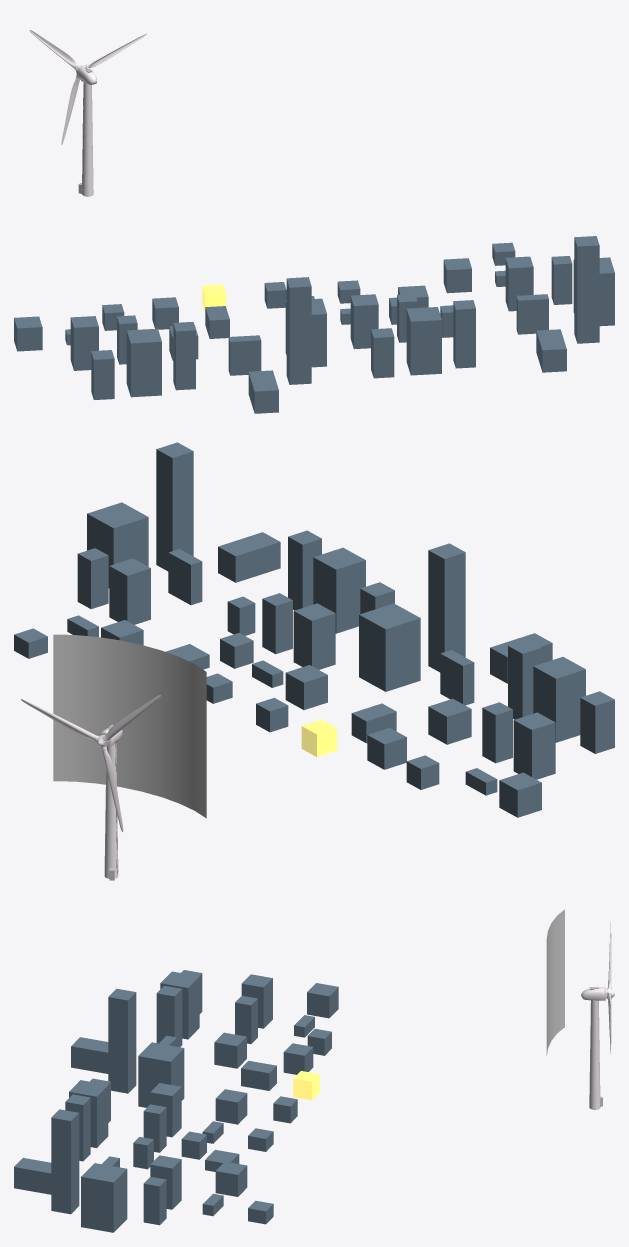
File: WindTurbine_v.glb
3 renders of one model, top to bottom at view 1: azimuth 30°, elevation 25°; view 2: azimuth 150°, elevation 25°; view 3: azimuth 270°, elevation 25°, orthographic. The views are drawn at different scales.
Parts seen in each view (by area): view 1: Cube.018, Cube.035, Cube.016, Cube.023, Cube.015, Cube.022, Cube.021, Cube.012, Cube.014, Cube.032, Cube.034, Cube.019 (+15 smaller); view 2: display, Cube.013, Cube.035, Cube.018, Cube.023, Cube.016, Cube.033, Cube.012, Cube.021, Cube.032, Cube.036, Cube.022 (+26 smaller); view 3: Cube.033, Cube.035, Cube.018, display, Cube.013, Cube.016, Cube.022, Cube.023, Cube.036, Cube.019, base, Cube.032 (+20 smaller).
Boxes of the visible parts, <box> form: Cube.018: <box>286,277,311,384</box>; Cube.035: <box>574,236,599,343</box>; Cube.016: <box>406,307,441,375</box>; Cube.023: <box>126,328,161,397</box>; Cube.015: <box>453,300,475,368</box>; Cube.022: <box>173,321,195,390</box>; Cube.021: <box>70,316,98,370</box>; Cube.012: <box>350,294,378,349</box>; Cube.014: <box>228,335,261,375</box>; Cube.032: <box>505,256,533,311</box>; Cube.034: <box>516,294,548,334</box>; Cube.019: <box>248,370,278,413</box>; display: <box>53,634,206,818</box>; Cube.013: <box>359,603,420,691</box>; Cube.035: <box>156,442,193,571</box>; Cube.018: <box>428,543,465,672</box>; Cube.023: <box>533,657,585,742</box>; Cube.016: <box>313,547,365,633</box>; Cube.033: <box>87,502,148,587</box>; Cube.012: <box>293,603,335,669</box>; Cube.021: <box>513,712,555,779</box>; Cube.032: <box>109,558,150,624</box>; Cube.036: <box>218,532,280,582</box>; Cube.022: <box>508,639,541,719</box>; Cube.033: <box>81,1163,127,1232</box>; Cube.035: <box>51,1109,79,1214</box>; Cube.018: <box>108,988,136,1093</box>; display: <box>546,909,564,1055</box>; Cube.013: <box>138,1042,184,1107</box>; Cube.016: <box>69,1080,108,1147</box>; Cube.022: <box>156,985,182,1047</box>; Cube.023: <box>160,971,199,1039</box>; Cube.036: <box>14,1158,51,1194</box>; Cube.019: <box>71,1037,108,1073</box>; base: <box>589,1000,600,1109</box>; Cube.032: <box>150,1155,181,1209</box>.
Size of the model in its own units: 9.44 by 3.26 by 10.52.
